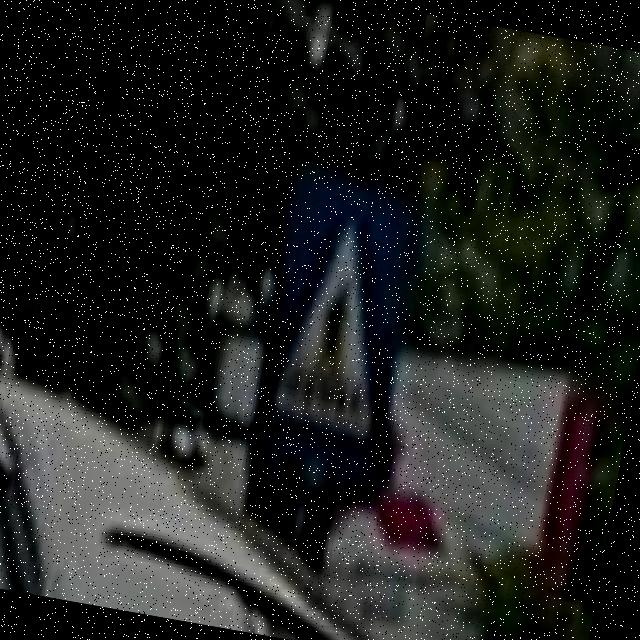Przejscie dla pieszych: (244, 173, 428, 477)
